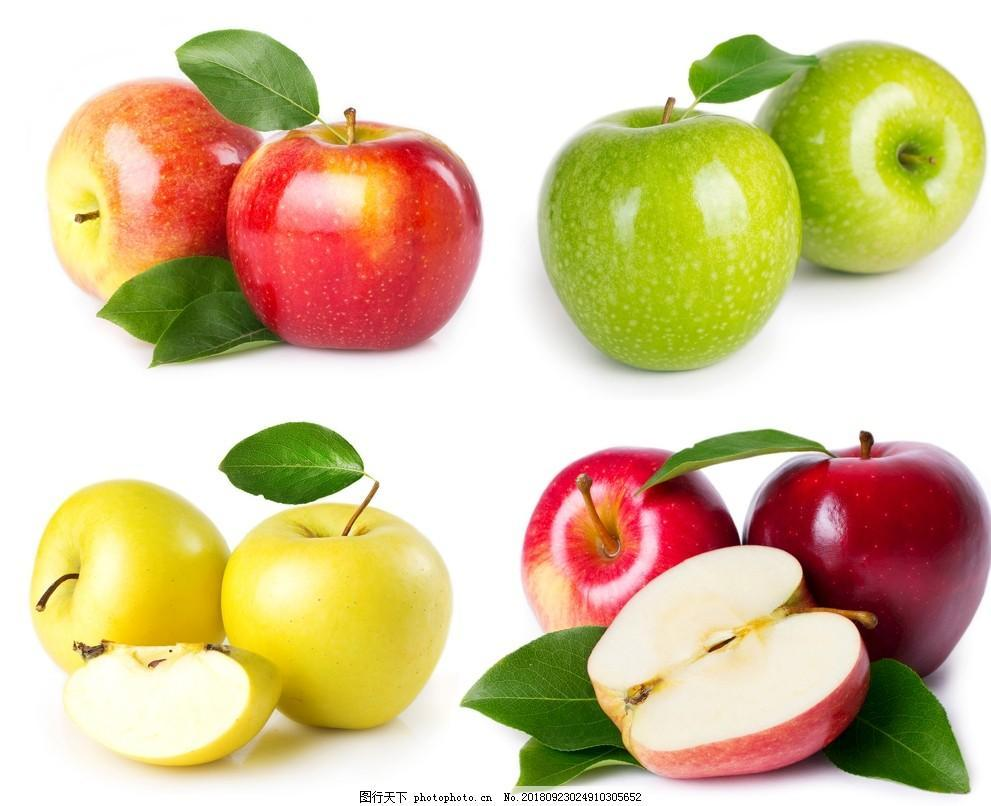apple: (535, 103, 801, 373), (716, 442, 991, 681), (223, 115, 484, 358), (45, 77, 282, 307), (748, 41, 978, 276), (521, 448, 744, 632)
